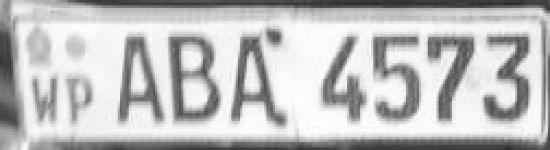3: (478, 29, 536, 136)
4: (307, 29, 371, 128)
5: (372, 29, 425, 128)
7: (425, 30, 478, 130)
A: (224, 28, 291, 131), (107, 30, 168, 129)
B: (167, 29, 224, 127)
P: (62, 72, 97, 129)
W: (28, 71, 61, 130)
